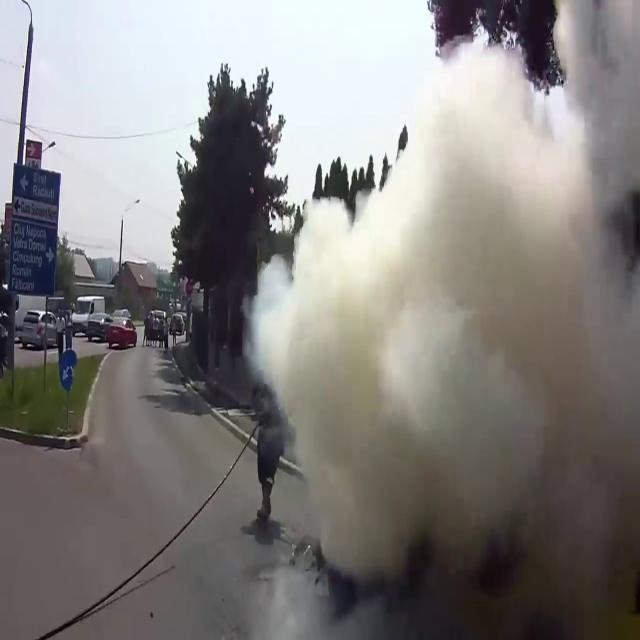Smoke: (247, 2, 640, 594)
